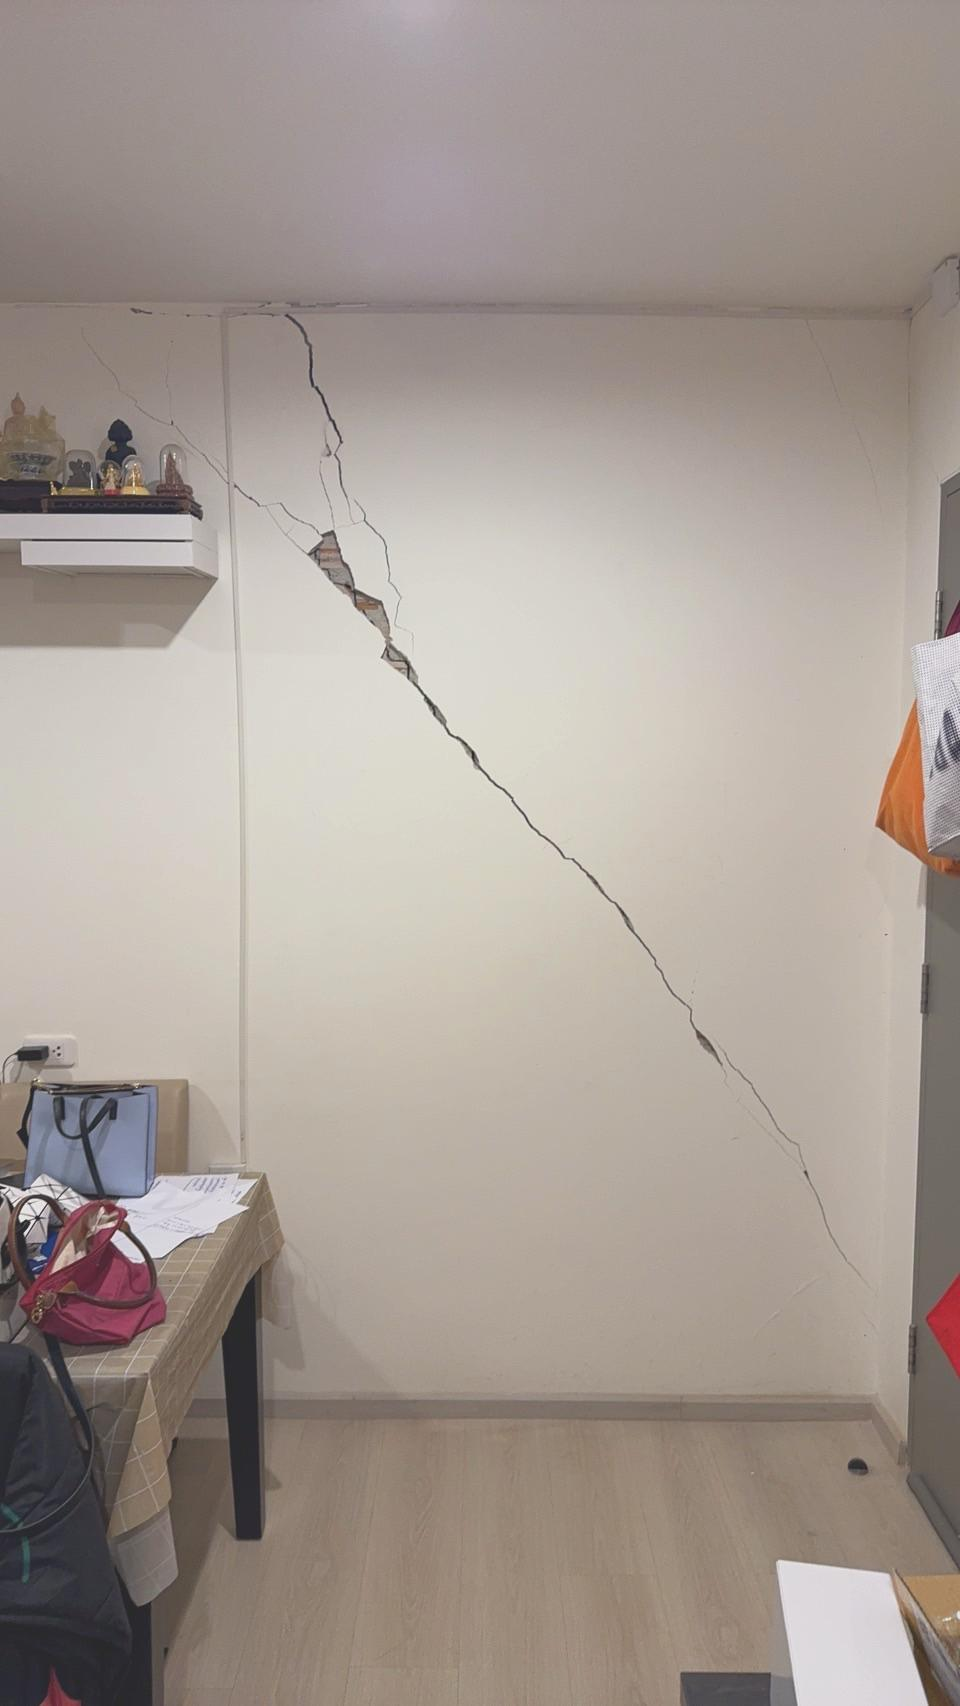High: (218, 303, 873, 1295)
